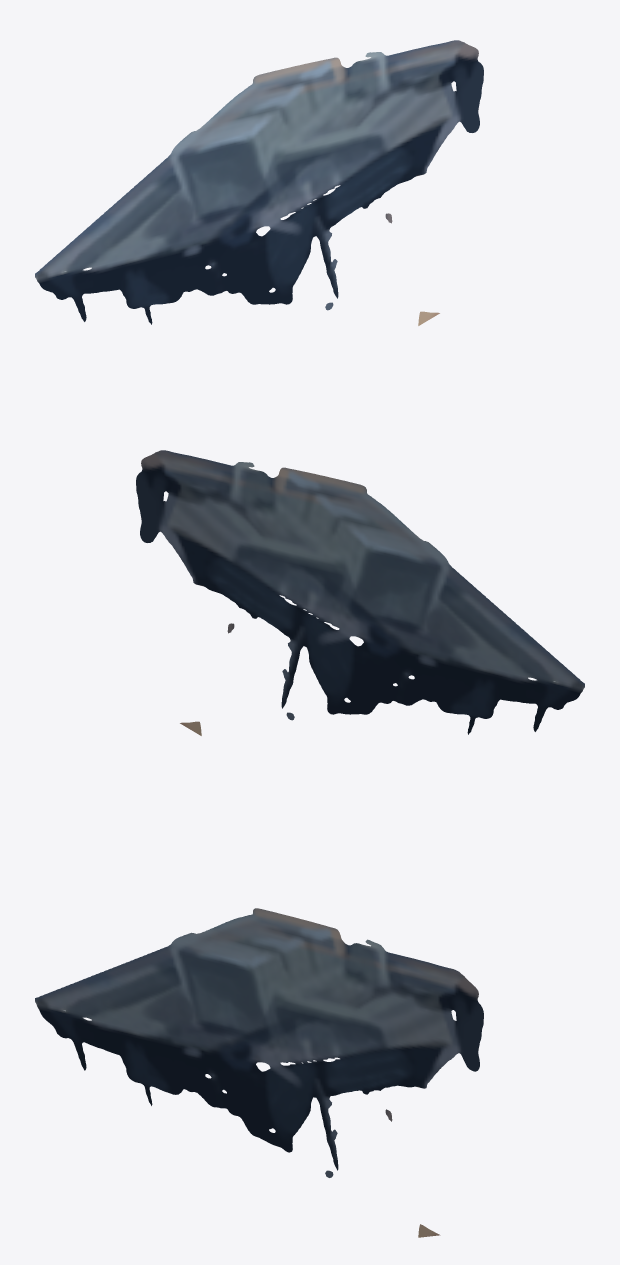
File: SceneBattle03_wujian06_fbx.FBX
3 views of the same model, one above another, from view 1: azimuth 30°, elevation 25°; view 2: azimuth 150°, elevation 25°; view 3: azimuth 330°, elevation 25° (orthographic).
Parts seen in each view (by area): view 1: SceneBattle03_wujian06_fbx; view 2: SceneBattle03_wujian06_fbx; view 3: SceneBattle03_wujian06_fbx.
Boxes of the visible parts, x1,y1,x2,y2 form: SceneBattle03_wujian06_fbx: (35, 40, 483, 325); SceneBattle03_wujian06_fbx: (136, 450, 584, 735); SceneBattle03_wujian06_fbx: (35, 908, 483, 1237).
Size of the model in its own units: 4.44 by 2.73 by 4.71e-06.
Materials: 1 (1 with a texture image).
